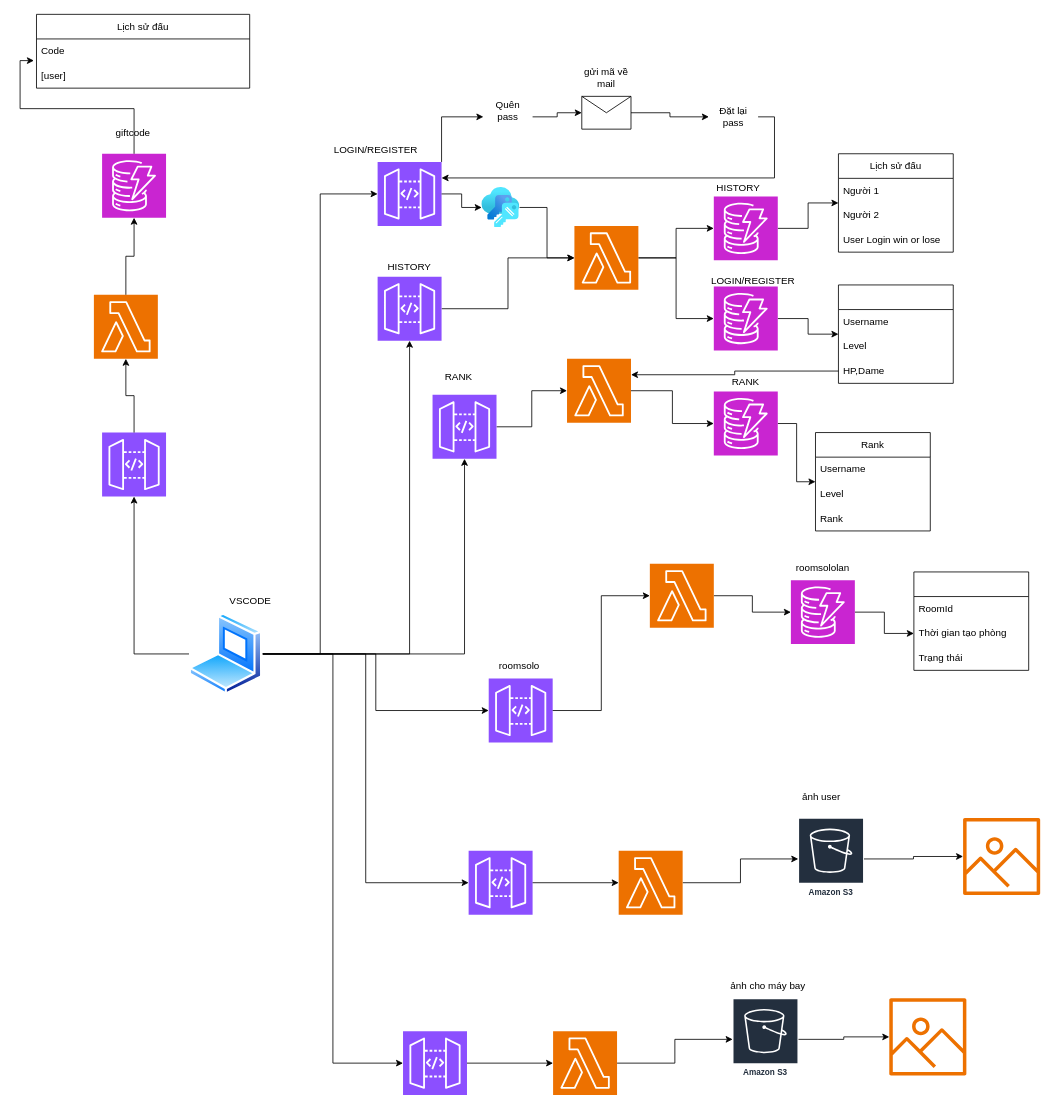
Some shapes in this 1055 by 1109 pixel diagram are drawn without their labels. The shapes that lost their labels are listed below. From the top down, each one's box as (x1, y1, x2, y2) in pixels, then its label:
(838, 284, 953, 383): Account information
(913, 571, 1029, 670): Lịch sử Room
